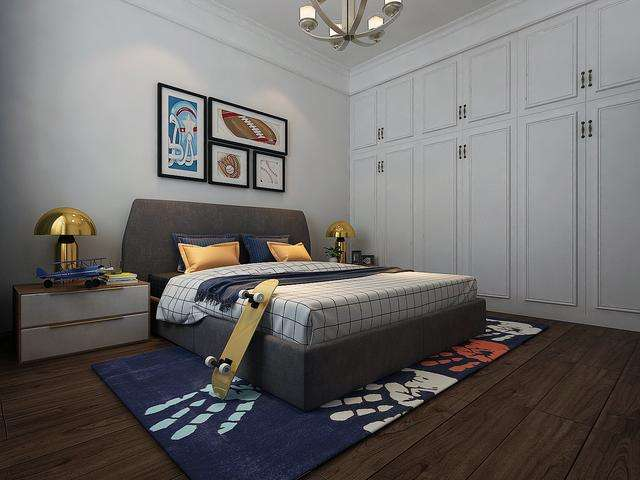床: (149, 259, 477, 401)
枕头: (172, 236, 315, 273)
灯: (299, 2, 408, 52), (34, 205, 94, 275), (327, 218, 358, 268)
